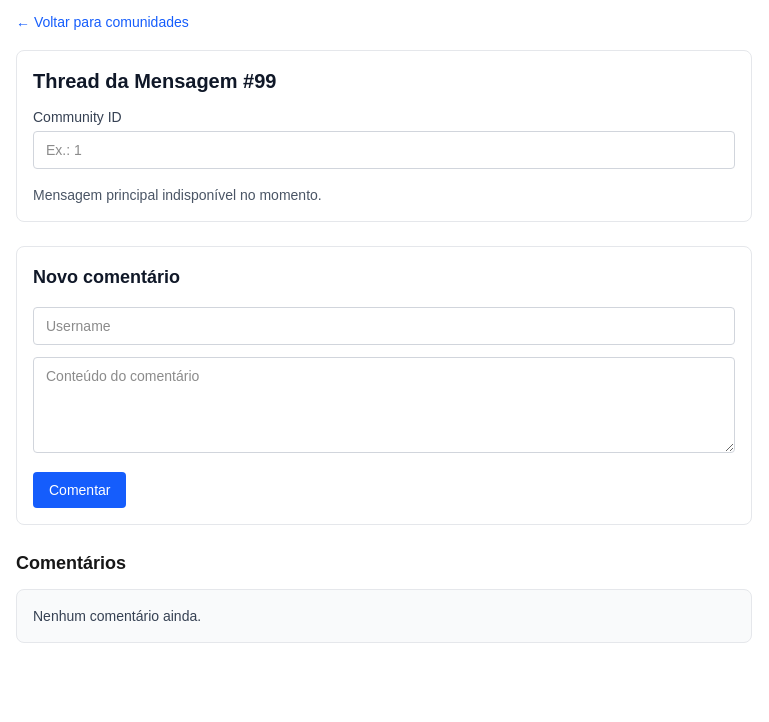
Test case: MessageThreadPage › should handle empty community id from query and validate form
The width and height of the screenshot is (769, 722).
expect the text "Mensagem principal indisponível no momento." is shown: met, box top-left (33, 187), bottom-right (322, 203)
Type "maria" into the field with placeholder "Username". click: {"x": 384, "y": 326}
box: top-left (33, 307), bottom-right (735, 345)
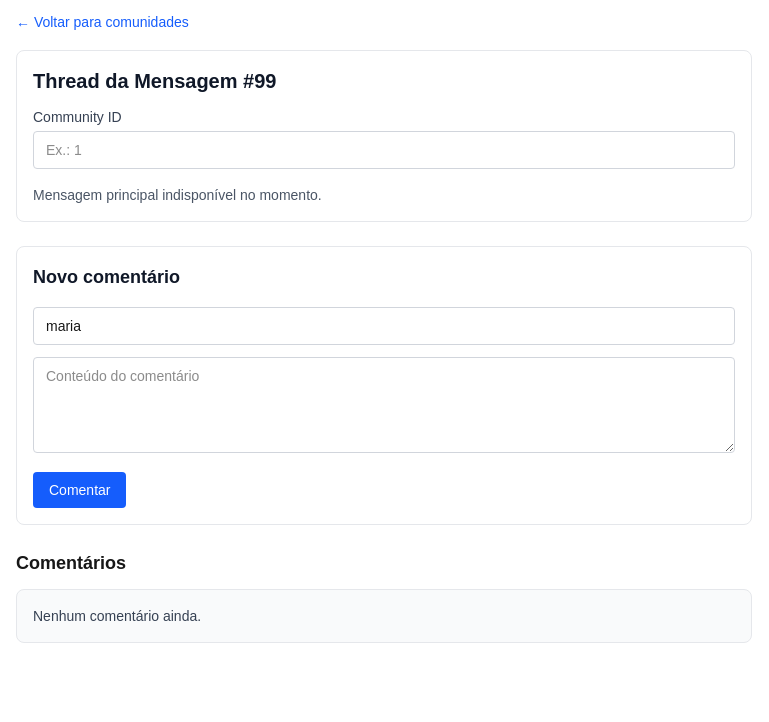
Type "No community" into the text box with placeholder "Conteúdo do comentário". click: {"x": 384, "y": 405}
box: top-left (33, 357), bottom-right (735, 453)
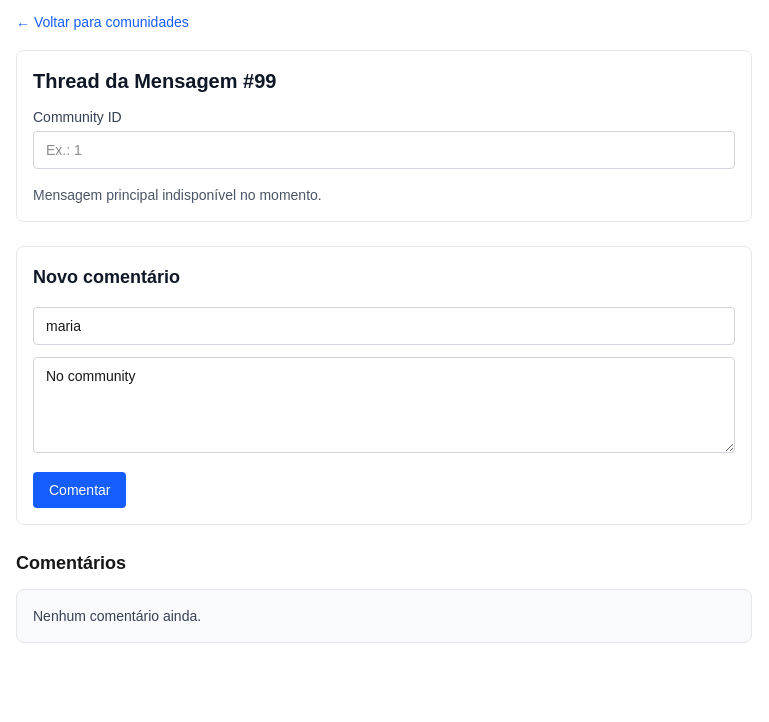
Click the button "Comentar". click: {"x": 80, "y": 490}
box: top-left (33, 472), bottom-right (126, 508)
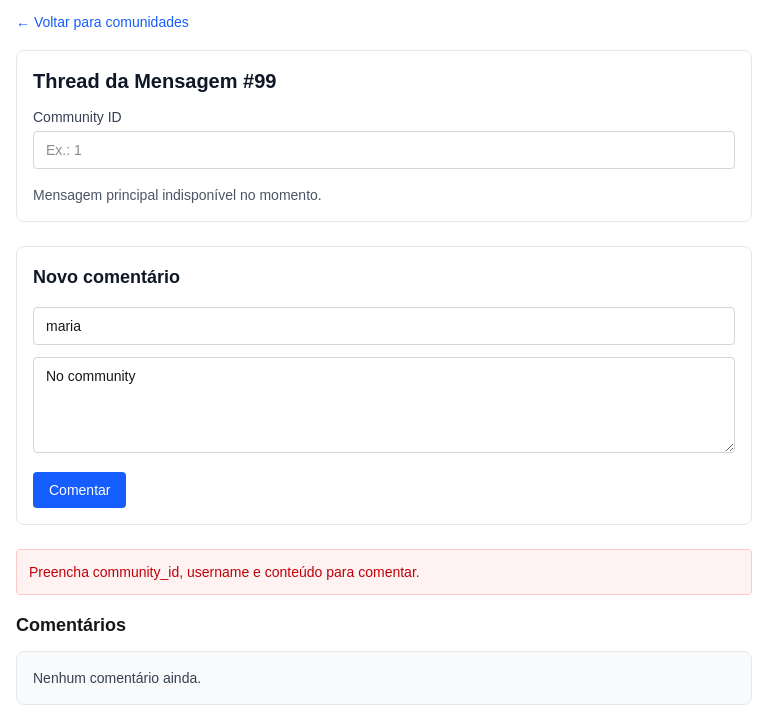
expect the text "Preencha community_id, username e conteúdo para comentar." is shown: met, box top-left (16, 549), bottom-right (752, 595)
